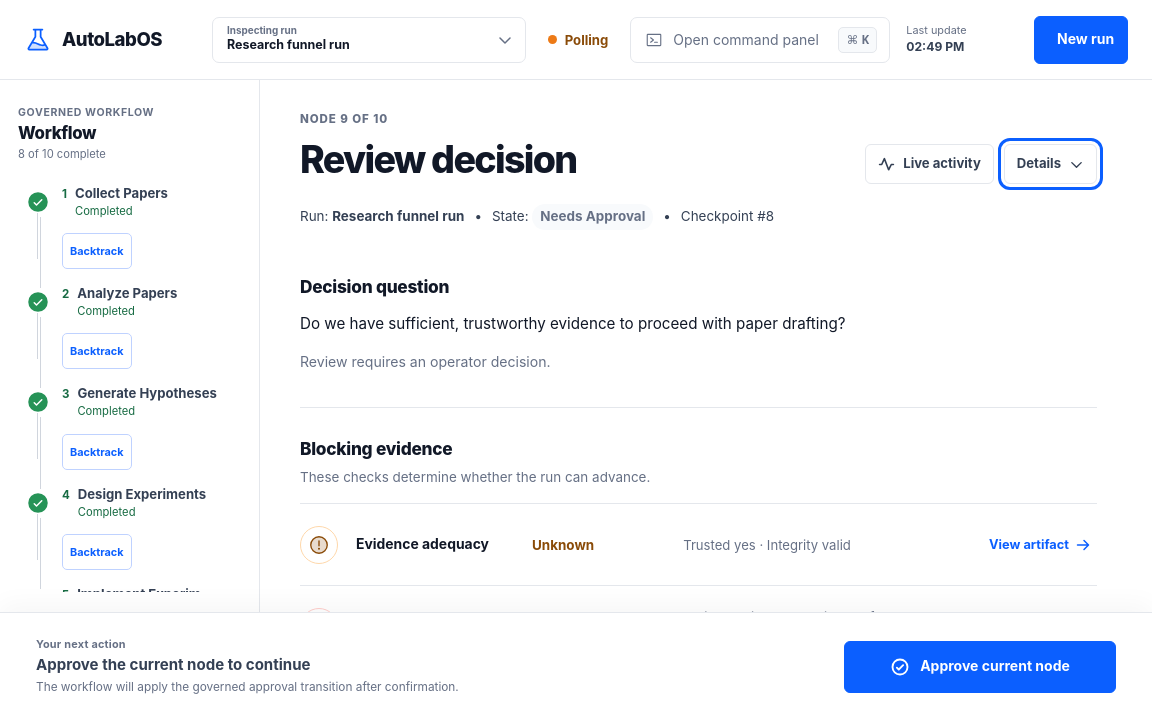
Test: App › renders evidence adequacy trust, paper permission, reasons, and artifact refs separately
Expected: the heading "Blocking evidence" is shown, [300, 438, 452, 459]
Click the button "Details" at (1050, 164), box [1004, 144, 1097, 184]
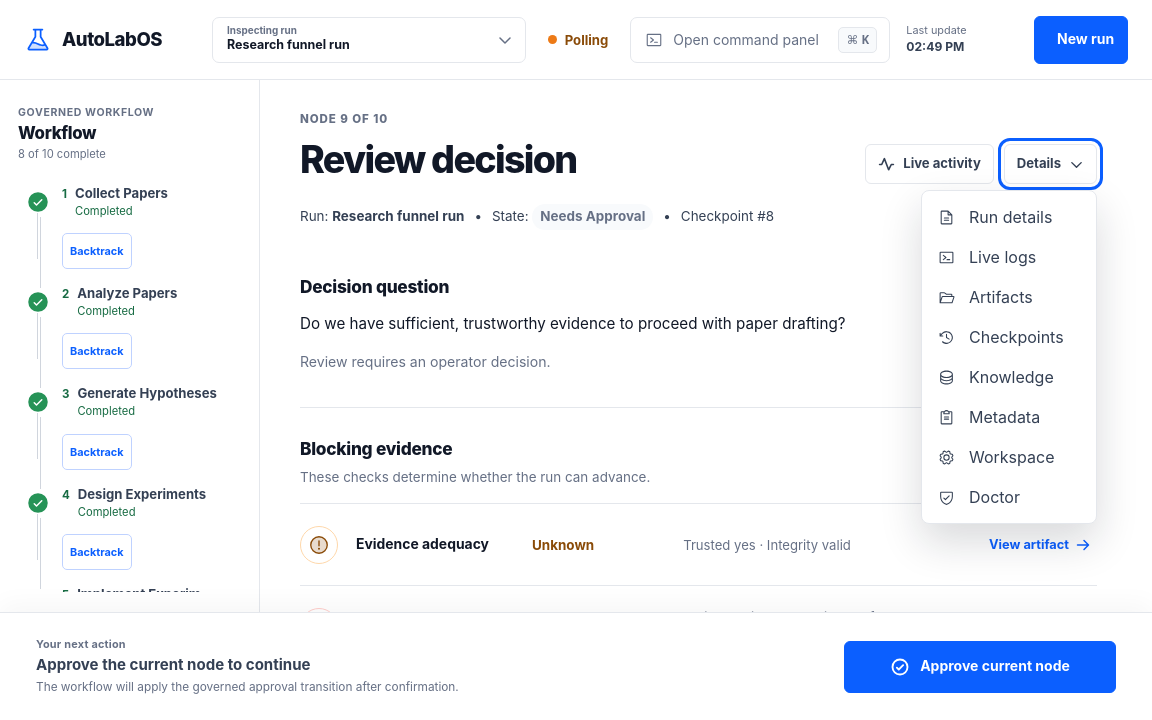
Click the button "Run details" at (1009, 217), box [928, 197, 1090, 237]
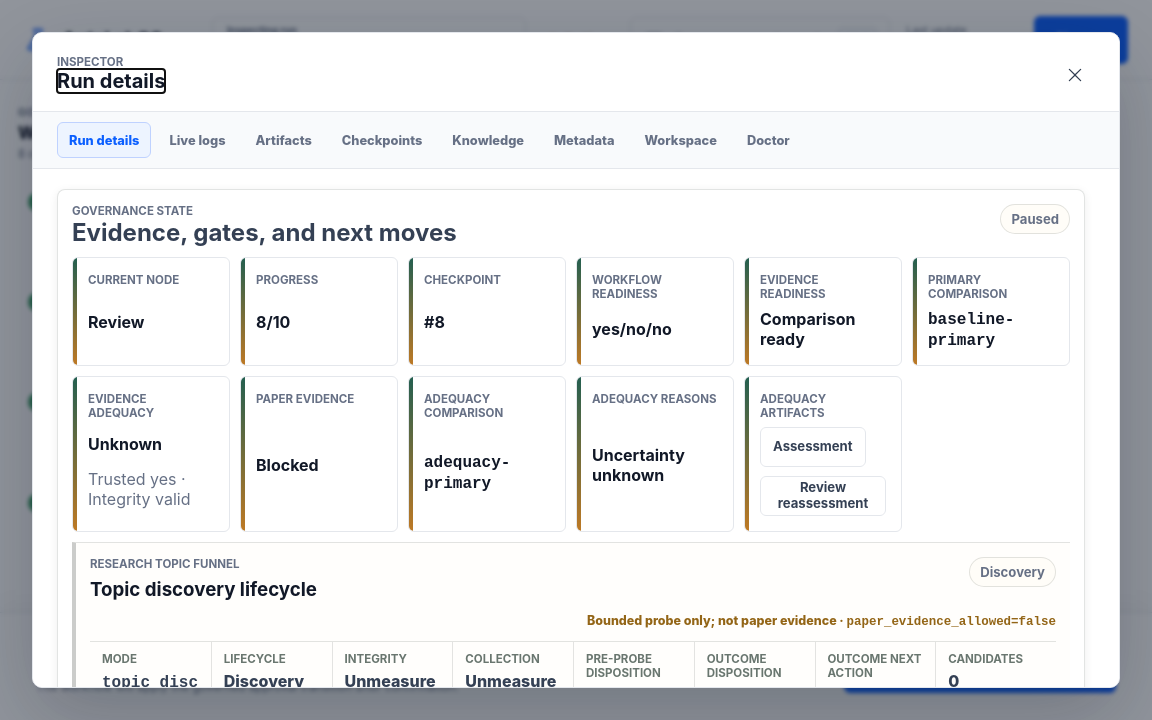
Now the text "Evidence readiness" is shown, box [760, 273, 826, 301]
Now the text "Comparison ready" is shown, box [760, 309, 855, 349]
Now the text "Evidence adequacy" is shown, box [88, 392, 154, 420]
